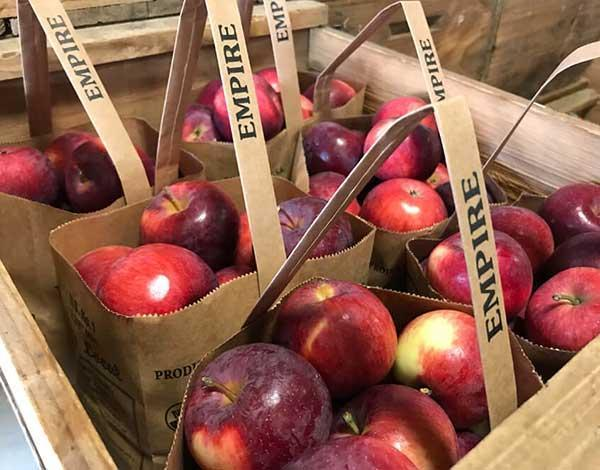apple: (178, 339, 337, 466), (284, 381, 468, 467), (393, 307, 493, 430), (138, 178, 247, 276), (428, 226, 532, 317), (526, 267, 599, 349), (354, 174, 451, 235), (486, 211, 553, 299), (48, 131, 120, 211), (364, 116, 441, 181), (1, 142, 60, 204), (541, 182, 599, 245), (300, 121, 363, 175)
